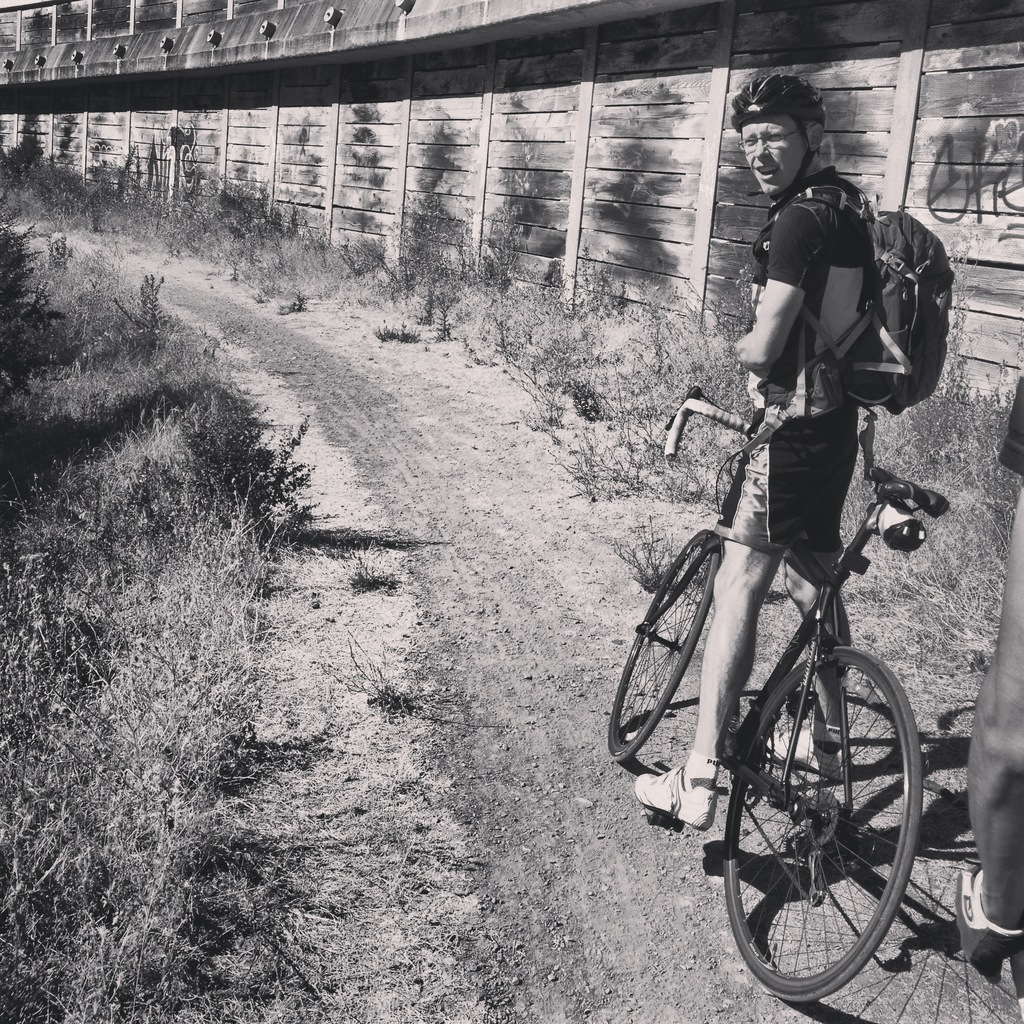Bike_toward: (568, 390, 930, 993)
